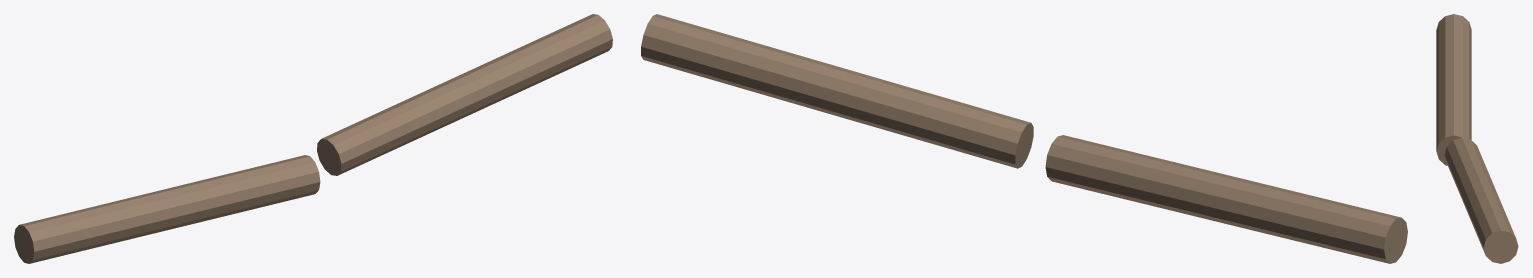
Rendered from VH-AXLE-BROKEN.glb.
3 renders of one model, left to right at view 1: azimuth 30°, elevation 25°; view 2: azimuth 150°, elevation 25°; view 3: azimuth 270°, elevation 25°, orthographic. The views are drawn at different scales.
Visible parts, largest first — view 1: broken_right, broken_left; view 2: broken_right, broken_left; view 3: broken_left, broken_right.
Part boxes in pixels (x1,y1,x2,y2): broken_right: (317, 14, 612, 175); broken_left: (14, 155, 320, 263); broken_right: (641, 14, 1033, 168); broken_left: (1045, 135, 1407, 263); broken_left: (1436, 14, 1471, 165); broken_right: (1444, 137, 1518, 263).
Size of the model in its own units: 1.56 by 0.1997 by 0.2096.
